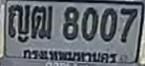0: (100, 7, 116, 41), (81, 6, 97, 40)
7: (120, 7, 137, 42)
8: (62, 6, 78, 39)
A13: (7, 4, 30, 42)
A18: (30, 5, 52, 38)
BKK: (21, 47, 119, 65)
